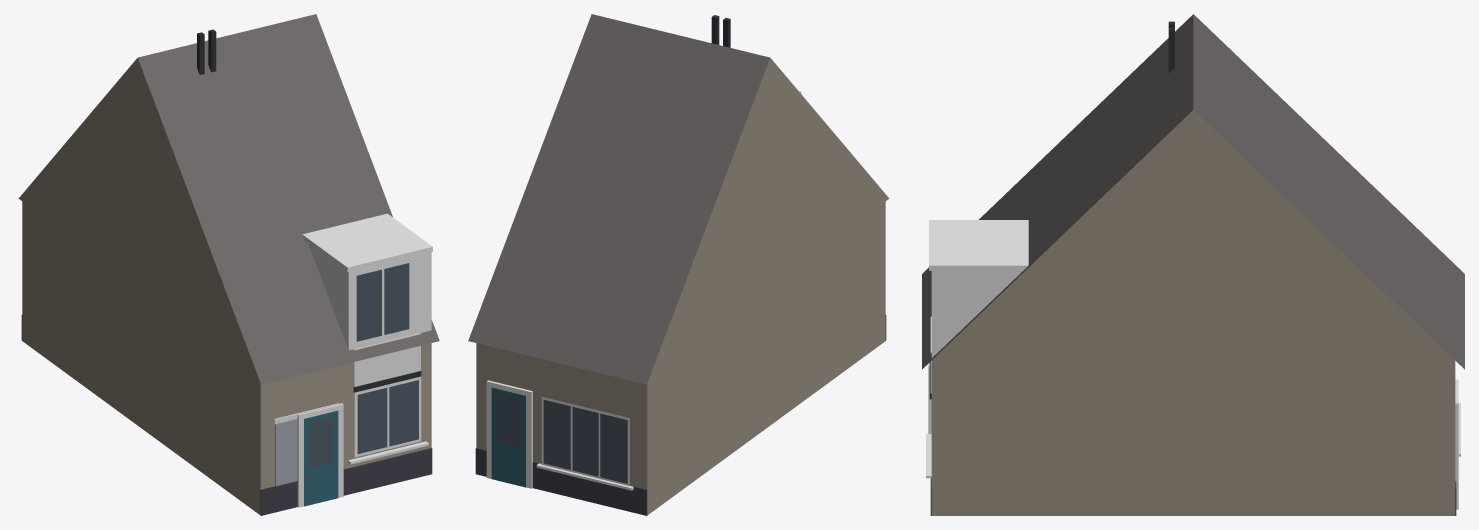
The model's file is nw-ee-box-front__box__2__gable__long__solid.glb.
3 renders of one model, left to right at view 1: azimuth 30°, elevation 25°; view 2: azimuth 150°, elevation 25°; view 3: azimuth 270°, elevation 25°, orthographic. The views are drawn at different scales.
Visible parts, largest first — view 1: nw-ee-box-front__box__2__gable__long__solid; view 2: nw-ee-box-front__box__2__gable__long__solid; view 3: nw-ee-box-front__box__2__gable__long__solid.
Part boxes in pixels (box(x1,y1,x2,y2)): nw-ee-box-front__box__2__gable__long__solid: box(18, 14, 439, 515); nw-ee-box-front__box__2__gable__long__solid: box(468, 14, 889, 515); nw-ee-box-front__box__2__gable__long__solid: box(922, 14, 1464, 515).
Size of the model in its own units: 4.69 by 9.78 by 11.24.
